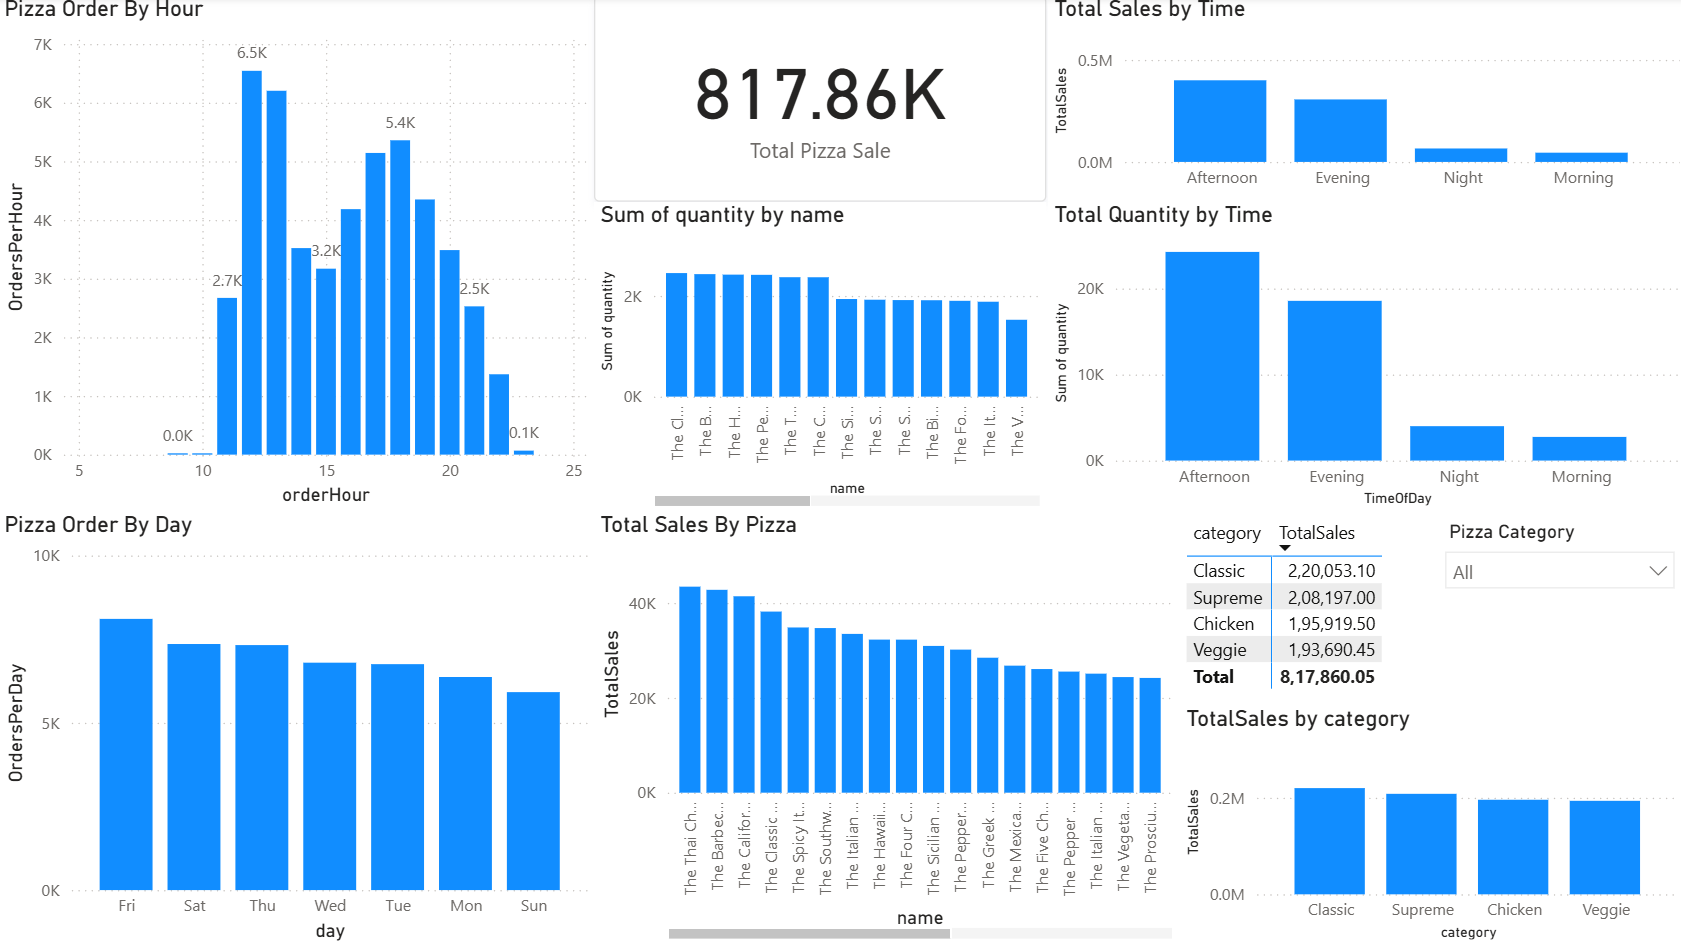

The page's visual inventory and layout, read from the dashboard file:
{"tool":"powerbi","page":{"name":"Page 1","canvas":[1280,720],"ordinal":0},"visuals":[{"type":"columnChart","title":"Pizza Order By Hour","fields":{"Category":["order.orderHour"],"Y":["order_details.OrdersPerHour"]},"box":[0,0,451.9,391.3],"z":0},{"type":"clusteredColumnChart","title":"Pizza Order By Day","fields":{"Category":["order.day"],"Y":["order_details.OrdersPerDay"]},"box":[0,391.4,452.6,330.2],"z":1000},{"type":"card","fields":{"Values":["pizzas.TotalSales"]},"box":[452.6,0,343.2,155.8],"z":2000},{"type":"clusteredColumnChart","fields":{"Category":["pizza_types.name"],"Y":["Sum(order_details.quantity)"]},"box":[452.6,155.8,343.2,235.6],"z":3000},{"type":"clusteredColumnChart","title":"Total Sales By Pizza ","fields":{"Category":["pizza_types.name"],"Y":["pizzas.TotalSales"]},"box":[452.6,391.4,443.4,328.3],"z":4000},{"type":"clusteredColumnChart","title":"Total Sales by Time","fields":{"Category":["order.TimeOfDay"],"Y":["pizzas.TotalSales"]},"box":[795.8,0,484.2,155.8],"z":5000},{"type":"clusteredColumnChart","title":"Total Quantity by Time","fields":{"Category":["order.TimeOfDay"],"Y":["Sum(order_details.quantity)"]},"box":[796.2,156.2,483.8,235.1],"z":6000},{"type":"pivotTable","fields":{"Rows":["pizza_types.category"],"Values":["pizzas.TotalSales"]},"box":[896.3,391.3,191.1,150.1],"z":7000},{"type":"clusteredColumnChart","fields":{"Category":["pizza_types.category"],"Y":["pizzas.TotalSales"]},"box":[896,538,384,181.8],"z":8000},{"type":"slicer","fields":{"Values":["pizza_types.category"]},"box":[1087.4,392.8,194.1,147.1],"z":9000}]}

Visuals, with their boxes in screenshot pixels (x1, y1, x2, y2), scaled from the page's 1280x720 canvas onto the 1681x946 screenshot:
"Pizza Order By Hour" columnChart: (left=0, top=0, right=593, bottom=514)
"Pizza Order By Day" clusteredColumnChart: (left=0, top=514, right=594, bottom=945)
card - pizzas.TotalSales: (left=594, top=0, right=1045, bottom=205)
clusteredColumnChart - pizza_types.name x Sum(order_details.quantity): (left=594, top=205, right=1045, bottom=514)
"Total Sales By Pizza " clusteredColumnChart: (left=594, top=514, right=1177, bottom=945)
"Total Sales by Time" clusteredColumnChart: (left=1045, top=0, right=1680, bottom=205)
"Total Quantity by Time" clusteredColumnChart: (left=1046, top=205, right=1680, bottom=514)
pivotTable - pizza_types.category x pizzas.TotalSales: (left=1177, top=514, right=1428, bottom=711)
clusteredColumnChart - pizza_types.category x pizzas.TotalSales: (left=1177, top=707, right=1680, bottom=945)
slicer - pizza_types.category: (left=1428, top=516, right=1680, bottom=709)
